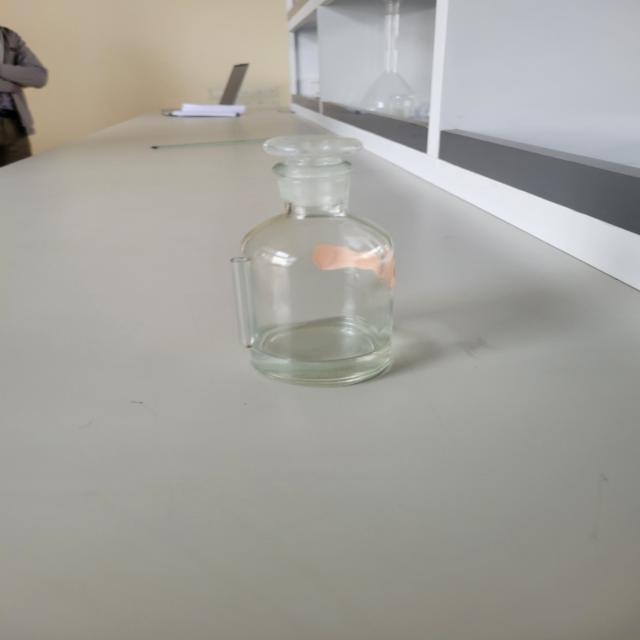Reagent_Bottle: (208, 83, 433, 414)
